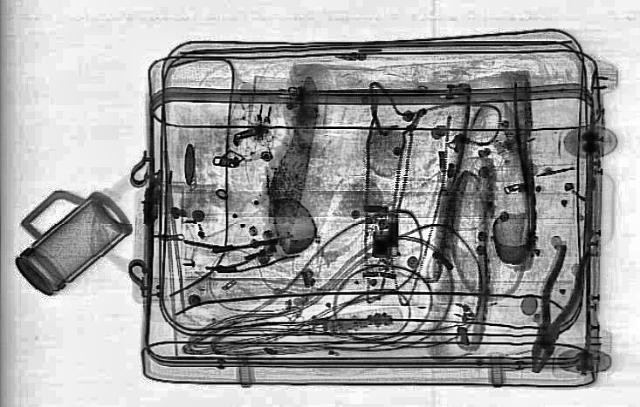Pliers: (514, 245, 594, 375)
